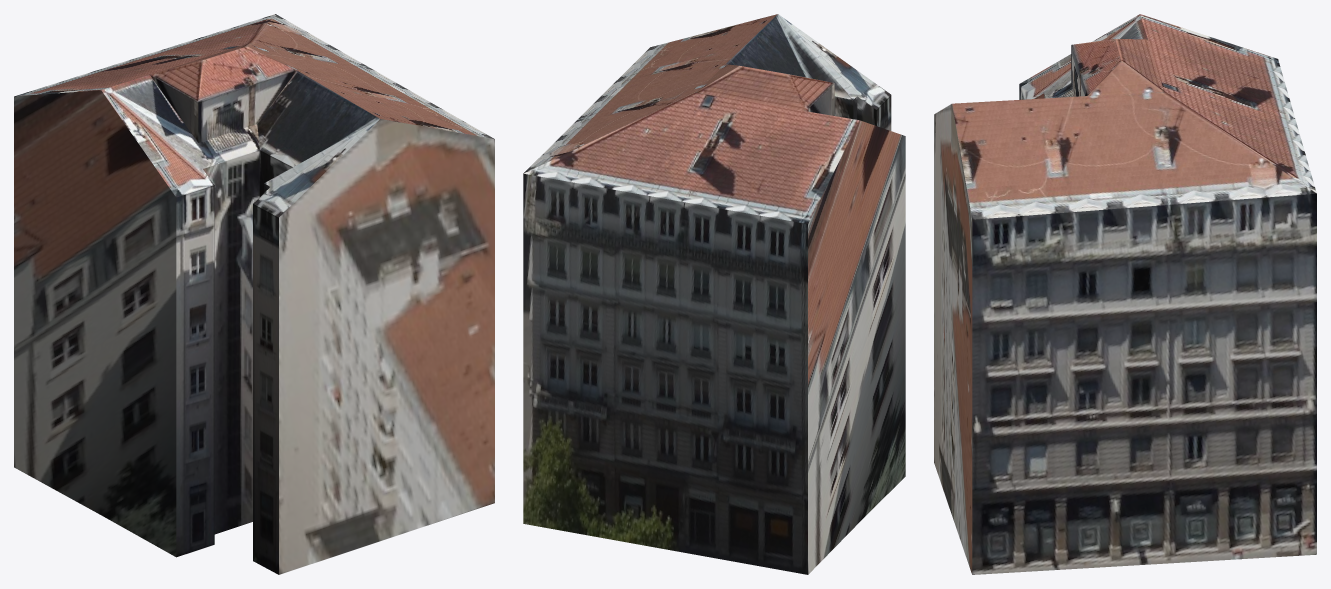
The picture shows the model from 3 angles, left to right: view 1: azimuth 30°, elevation 25°; view 2: azimuth 150°, elevation 25°; view 3: azimuth 270°, elevation 25°; orthographic projection. The views are drawn at different scales.
Parts seen in each view (by area): view 1: Z_UP; view 2: Z_UP; view 3: Z_UP.
Boxes of the visible parts, box(x1,y1,x2,y2) form: Z_UP: box(14, 14, 494, 574); Z_UP: box(523, 14, 905, 574); Z_UP: box(934, 14, 1316, 574).
Size of the model in its own units: 21.58 by 28.2 by 22.64.
Materials: 2 (1 with a texture image).
